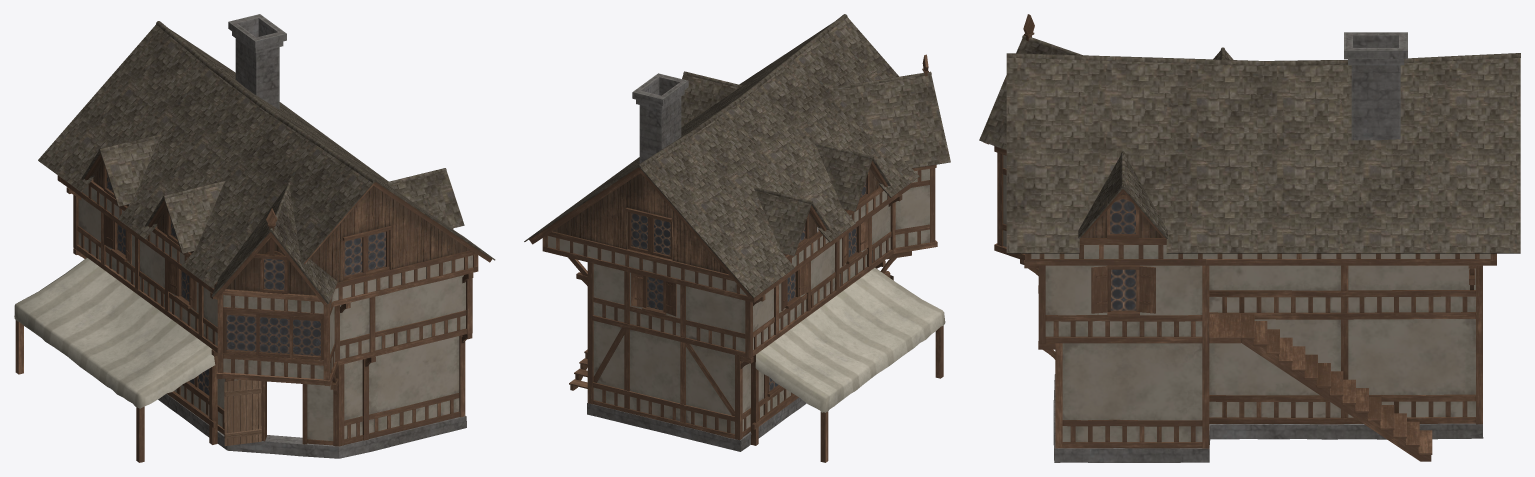
File: house.glb
The picture shows the model from 3 angles, left to right: view 1: azimuth 30°, elevation 25°; view 2: azimuth 150°, elevation 25°; view 3: azimuth 270°, elevation 25°; orthographic projection. The views are drawn at different scales.
Visible parts, largest first — view 1: object_1, object_0; view 2: object_1, object_0; view 3: object_1, object_0.
Part boxes in pixels (left/top/right/bottom): object_1: left=14, top=14, right=495, bottom=458; object_0: left=15, top=153, right=492, bottom=462; object_1: left=524, top=14, right=950, bottom=451; object_0: left=529, top=54, right=943, bottom=462; object_1: left=979, top=32, right=1520, bottom=462; object_0: left=983, top=14, right=1496, bottom=461.
Bounding box in the file's own units: 13.48 × 14.1 × 18.26.
2 materials, 2 textured.
